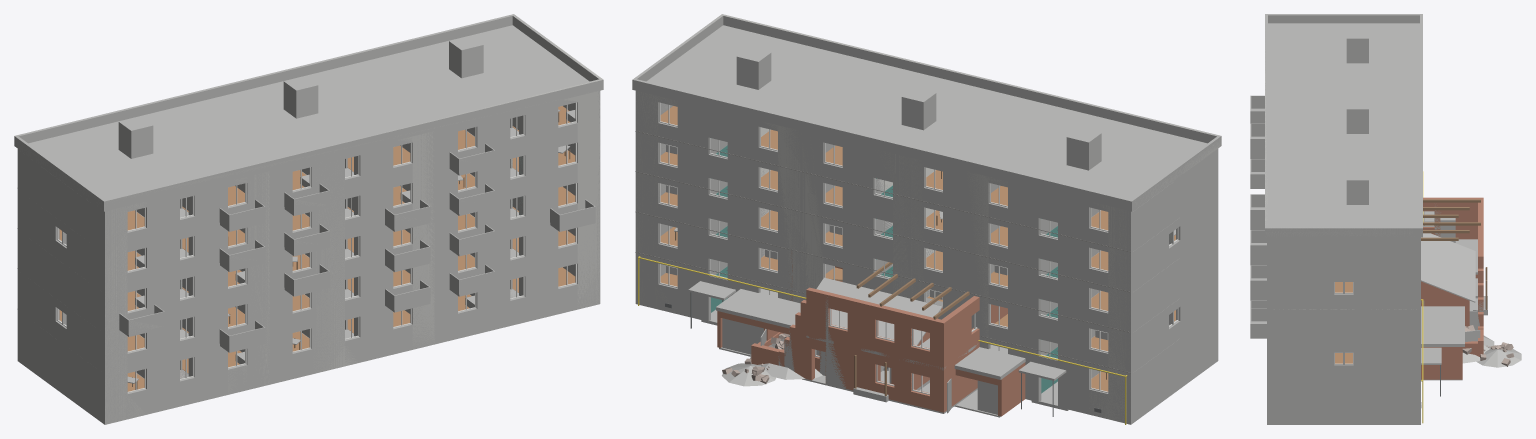
Rendered from buildings.glb.
The picture shows the model from 3 angles, left to right: view 1: azimuth 30°, elevation 25°; view 2: azimuth 150°, elevation 25°; view 3: azimuth 270°, elevation 25°; orthographic projection. The views are drawn at different scales.
Parts seen in each view (by area): view 1: C__Panel5, Panel__Panel5, Lino__Panel5, Frame__Panel5, Concrete__Panel5; view 2: C__Panel5, Brick__Ruin2, Panel__Panel5, C__Garages, Lino__Panel5, Frame__Panel5, C__Ruin2, C__HouseBrick, Plinth__Panel5, Brick__Garages, Paint__Panel5, Wood__Ruin2 (+3 smaller); view 3: C__Panel5, C__HouseBrick, Brick__Ruin2, C__Garages, C__Ruin2, Wood__Ruin2, Brick__Garages, Brick__HouseBrick, Panel__Panel5, Rubble__Ruin2, Lino__Panel5, Pipe__Panel5.
Part boxes in pixels (x1,y1,x2,y2): C__Panel5: [14, 14, 603, 424]; Panel__Panel5: [16, 24, 603, 424]; Lino__Panel5: [59, 106, 575, 391]; Frame__Panel5: [57, 102, 576, 393]; Concrete__Panel5: [135, 131, 595, 352]; C__Panel5: [632, 14, 1221, 424]; Brick__Ruin2: [751, 251, 1007, 412]; Panel__Panel5: [635, 14, 1221, 422]; C__Garages: [716, 288, 1025, 417]; Lino__Panel5: [660, 106, 1175, 391]; Frame__Panel5: [659, 102, 1178, 392]; C__Ruin2: [722, 297, 977, 413]; C__HouseBrick: [793, 277, 942, 390]; Plinth__Panel5: [635, 131, 1130, 373]; Brick__Garages: [717, 311, 1025, 416]; Paint__Panel5: [711, 138, 1057, 393]; Wood__Ruin2: [856, 262, 969, 319]; C__Panel5: [1250, 14, 1441, 424]; C__HouseBrick: [1421, 233, 1475, 305]; Brick__Ruin2: [1423, 197, 1483, 356]; C__Garages: [1421, 221, 1480, 380]; C__Ruin2: [1434, 206, 1521, 367]; Wood__Ruin2: [1421, 199, 1480, 240]; Brick__Garages: [1421, 347, 1462, 379]; Brick__HouseBrick: [1421, 281, 1469, 326]; Panel__Panel5: [1265, 23, 1412, 236]; Rubble__Ruin2: [1462, 325, 1514, 366]; Lino__Panel5: [1335, 282, 1352, 363]; Pipe__Panel5: [1421, 171, 1423, 423].
Bounding box in the file's own units: 36.3 × 17.25 × 19.41.
